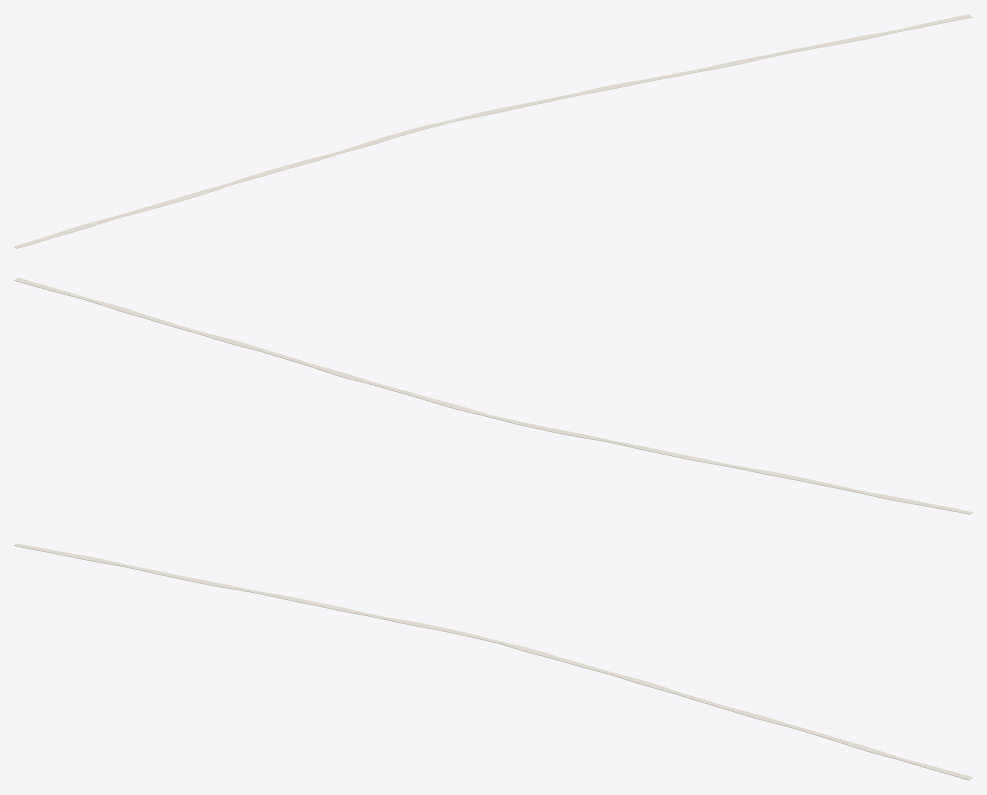
The model's file is cove_foam.glb.
3 renders of one model, top to bottom at view 1: azimuth 30°, elevation 25°; view 2: azimuth 150°, elevation 25°; view 3: azimuth 330°, elevation 25°, orthographic.
Parts seen in each view (by area): view 1: beach_cove_foam; view 2: beach_cove_foam; view 3: beach_cove_foam.
Part boxes in pixels (x1,y1,x2,y2): beach_cove_foam: (14,14,972,248); beach_cove_foam: (14,277,972,514); beach_cove_foam: (14,543,972,780).
Size of the model in its own units: 48 by 0.015 by 2.24.
Materials: 1 (1 with a texture image).
